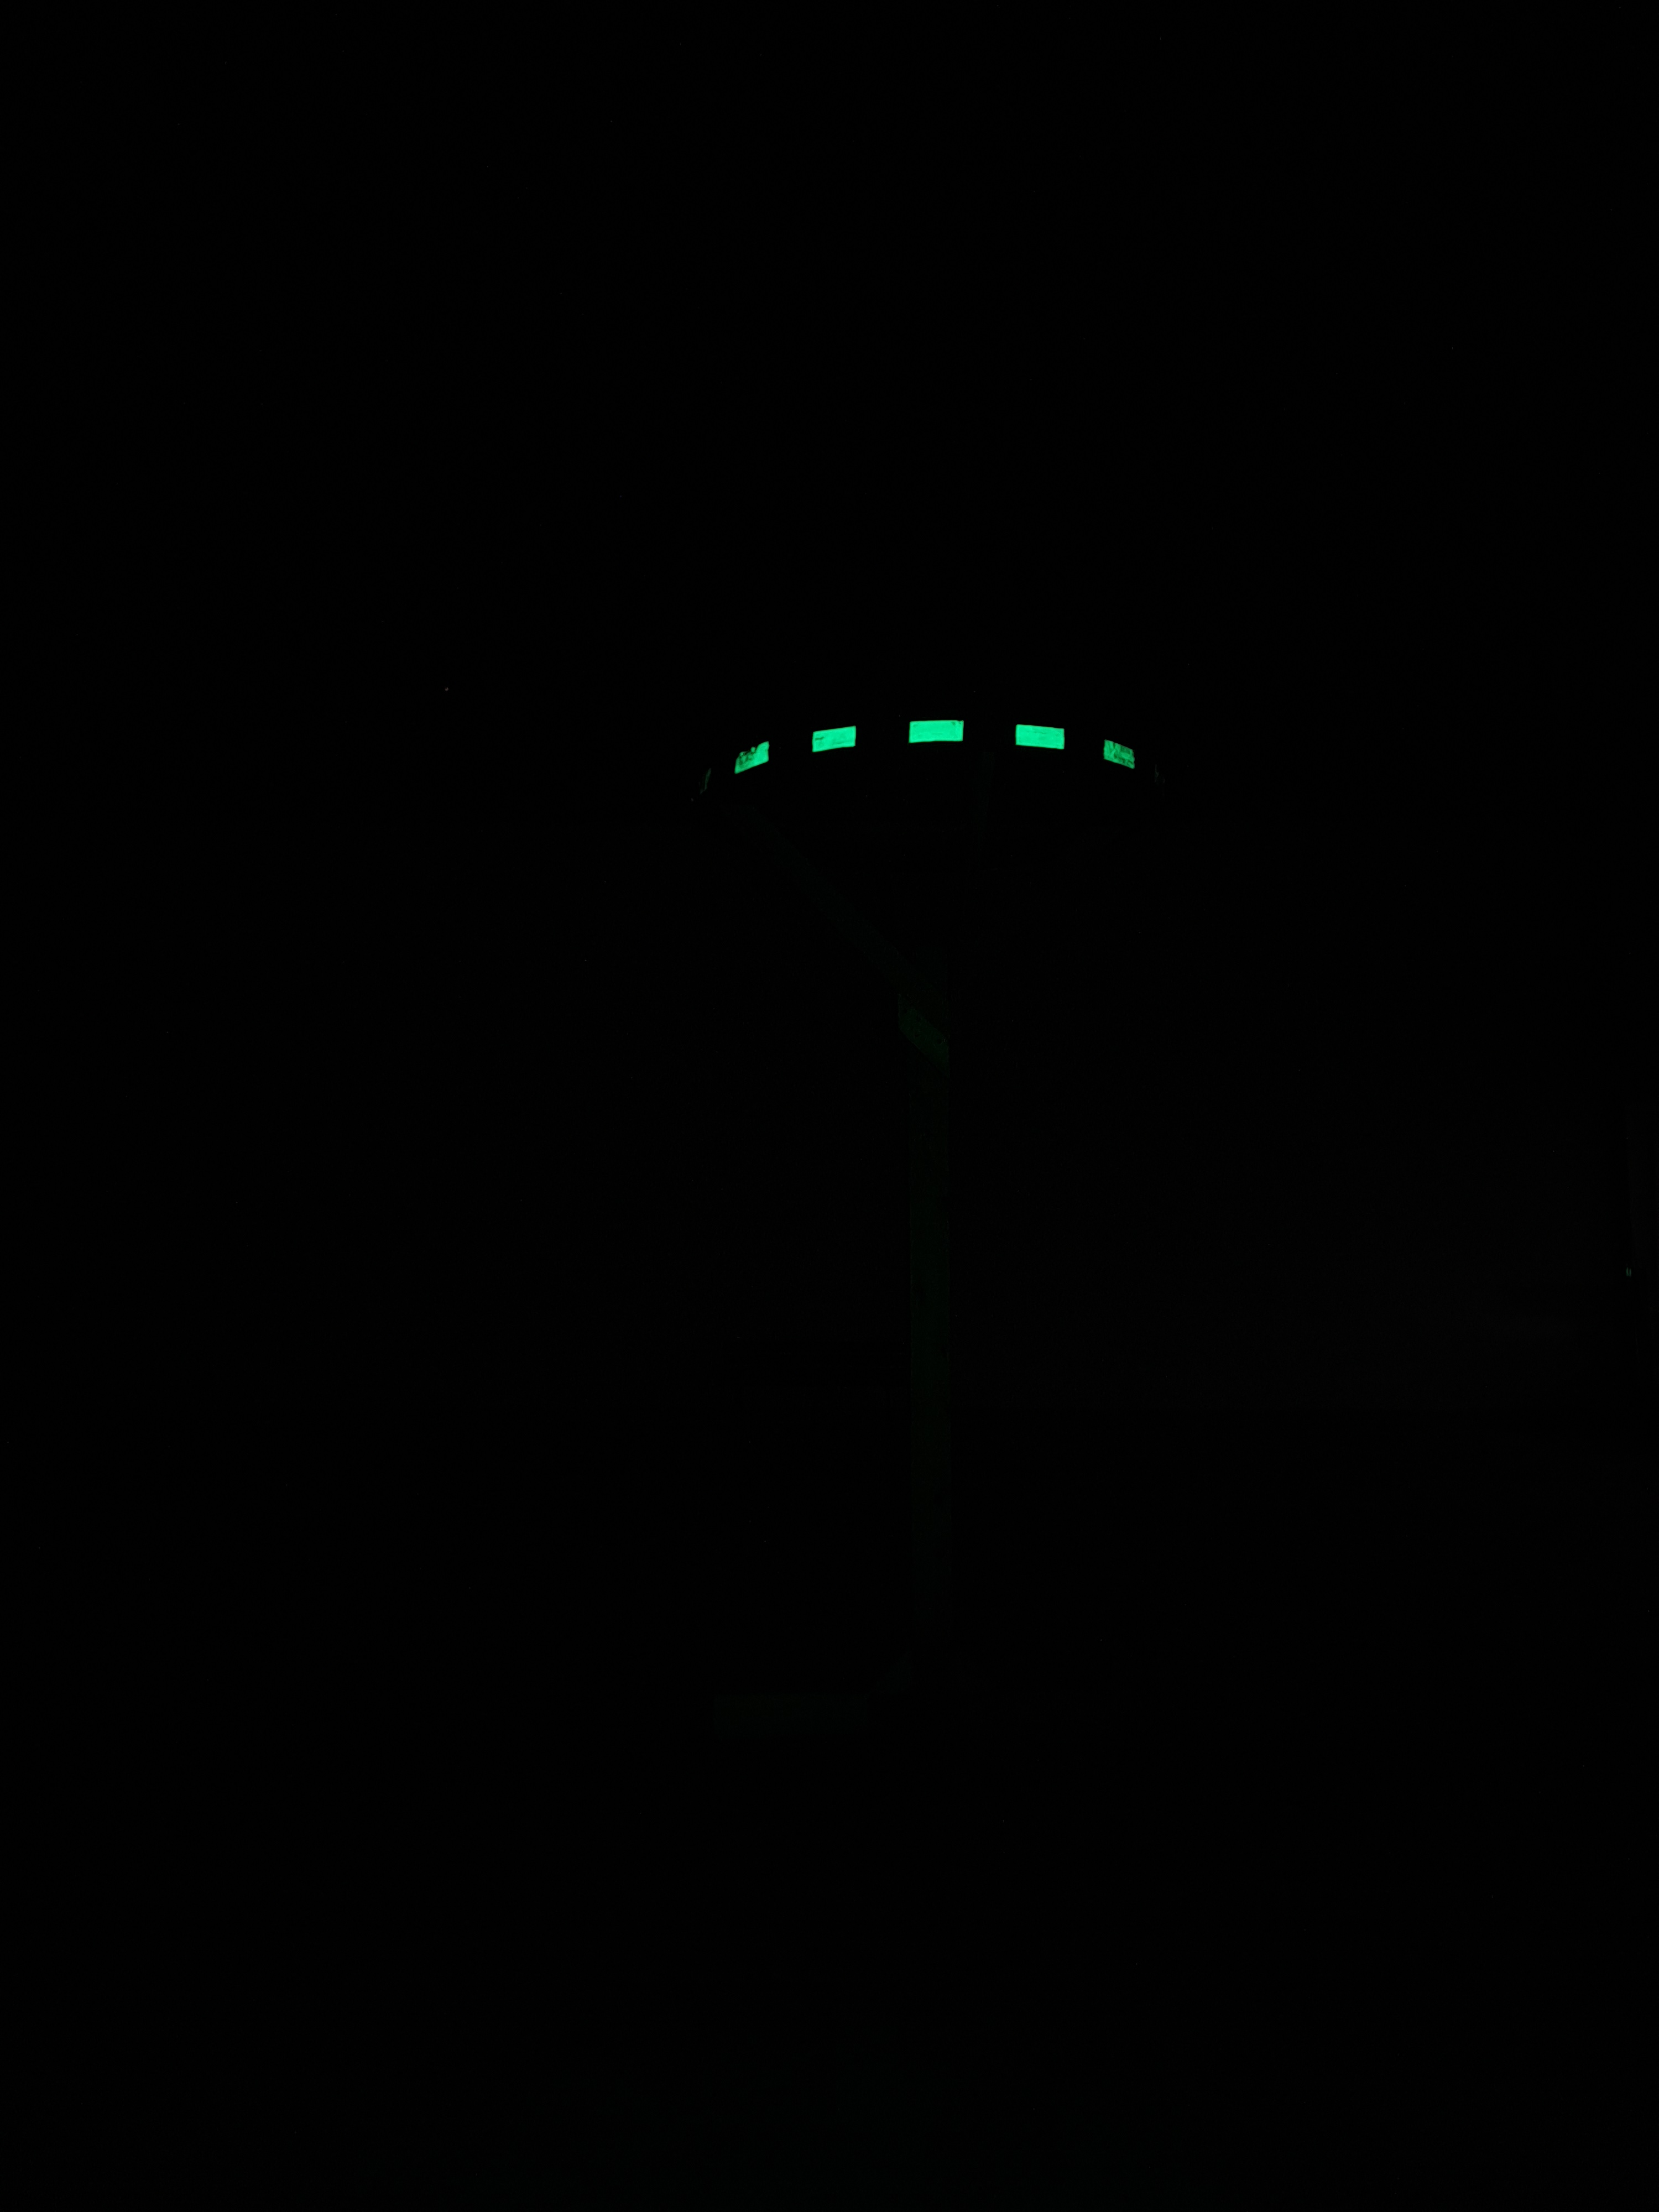hoop: (727, 714, 1145, 780)
